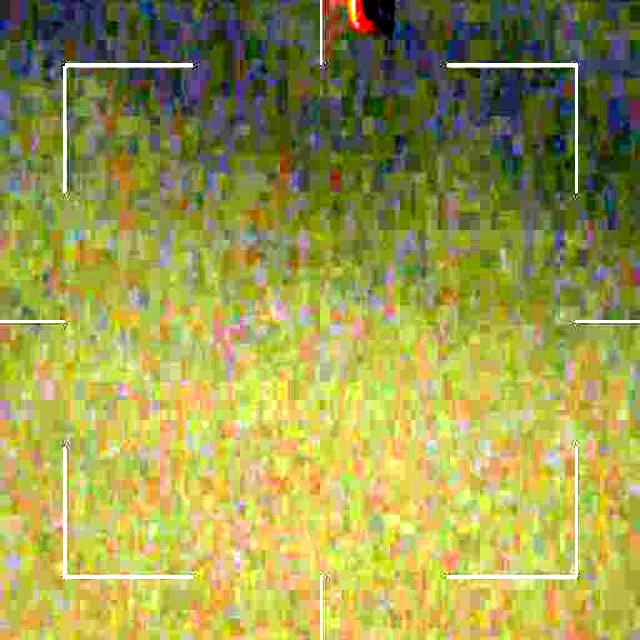bird: (328, 0, 410, 34)
